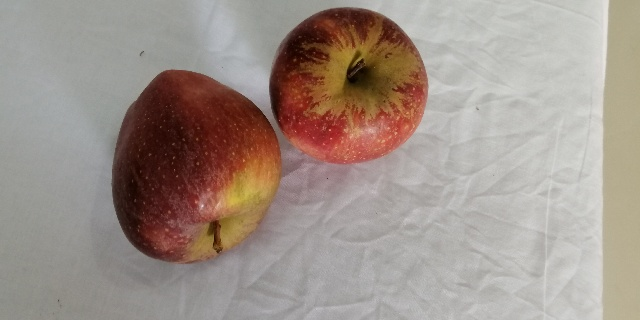apple_kashmir: (109, 70, 284, 268), (268, 8, 432, 164)
